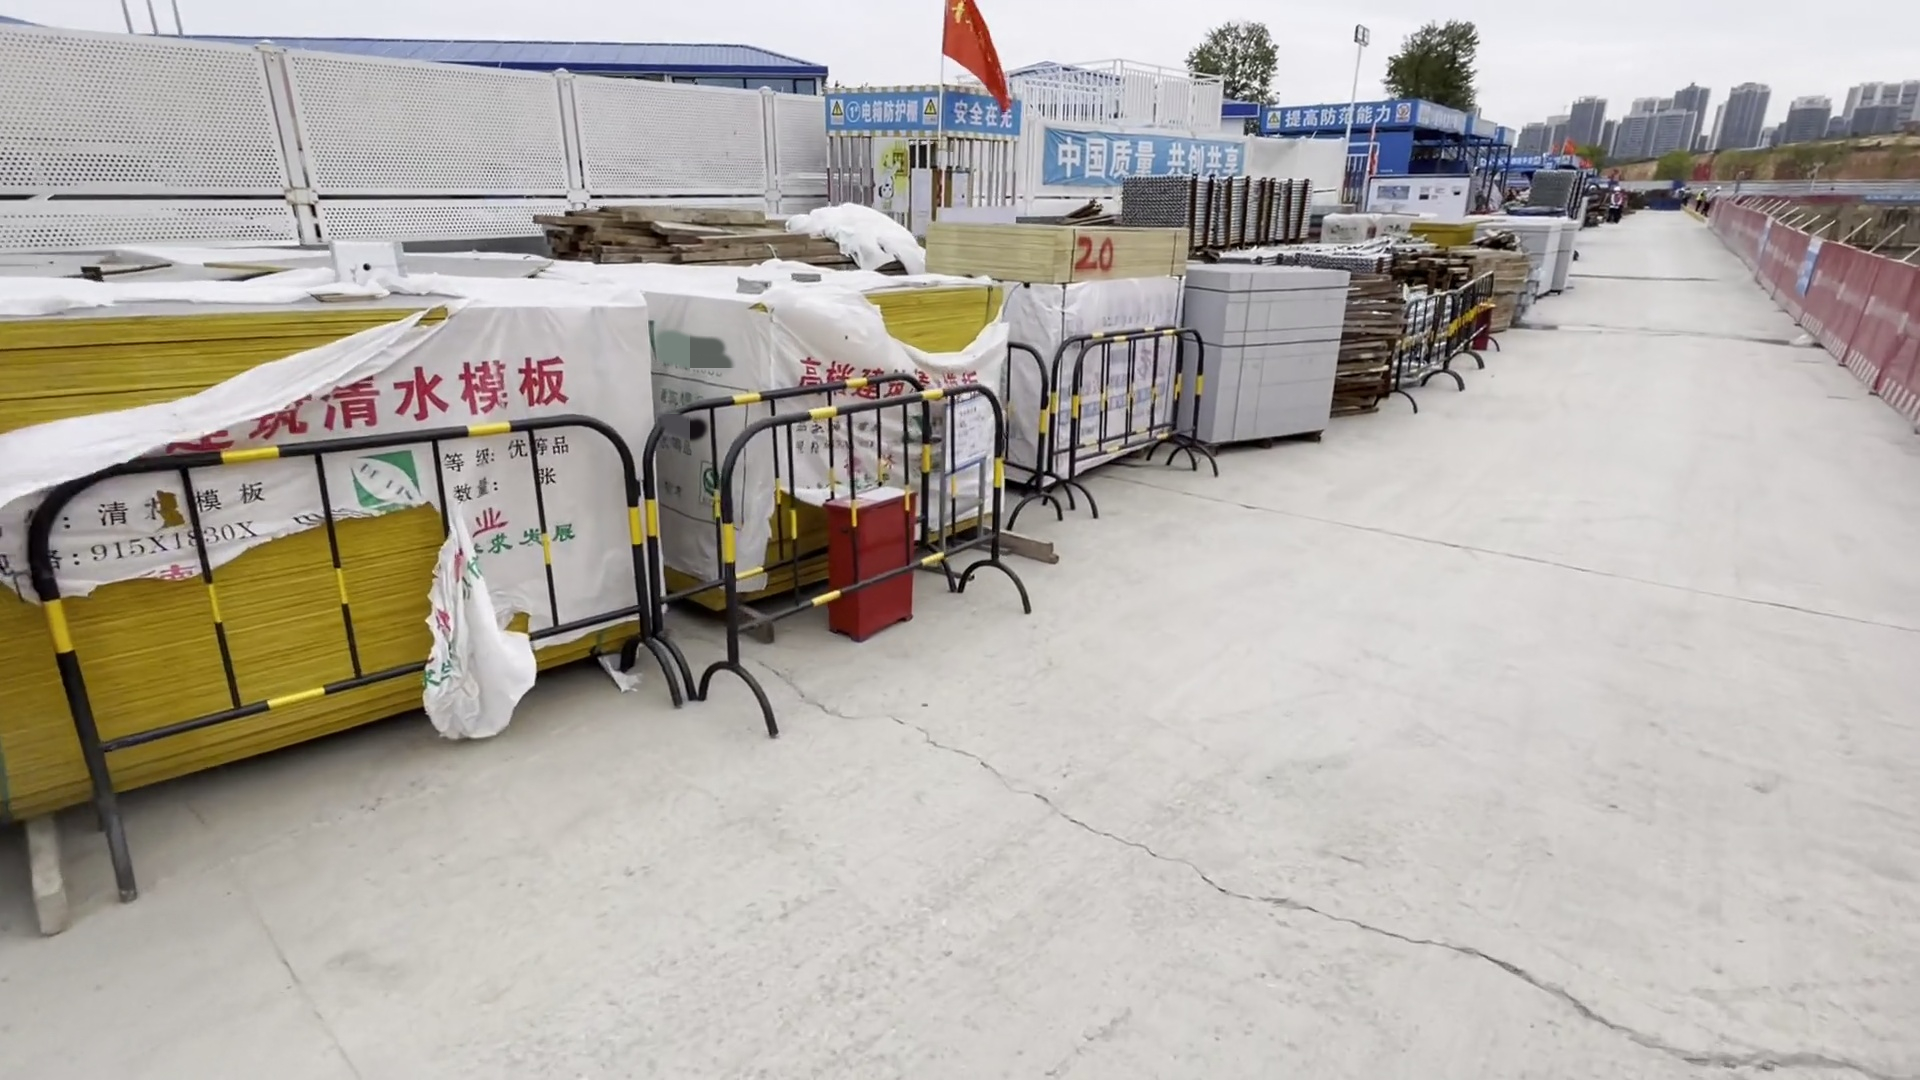board: (11, 322, 636, 778), (666, 262, 1069, 574)
brick: (1183, 255, 1346, 440), (1474, 212, 1582, 291)
fence: (702, 407, 1022, 642), (1705, 189, 1920, 455), (1064, 342, 1229, 495)
scaffold: (1124, 173, 1323, 240)
slogan: (1044, 127, 1246, 173), (928, 87, 1033, 140), (1250, 98, 1420, 127)
